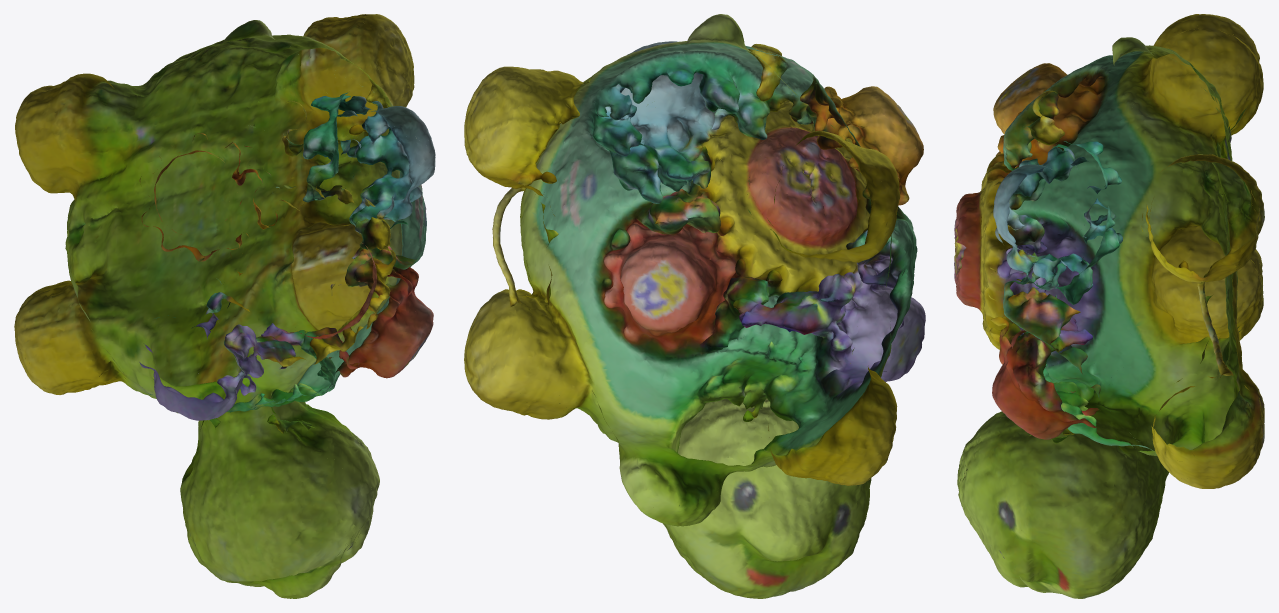
The model's file is turtle.glb.
The picture shows the model from 3 angles, left to right: view 1: azimuth 30°, elevation 25°; view 2: azimuth 150°, elevation 25°; view 3: azimuth 270°, elevation 25°; orthographic projection. The views are drawn at different scales.
Size of the model in its own units: 0.7243 by 0.9999 by 0.5067.
